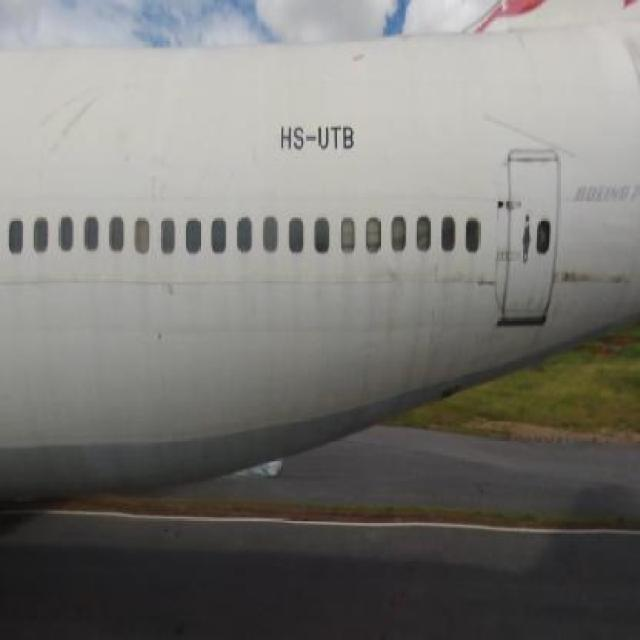Scartch: (33, 86, 102, 156), (548, 256, 632, 295), (434, 272, 512, 306)
